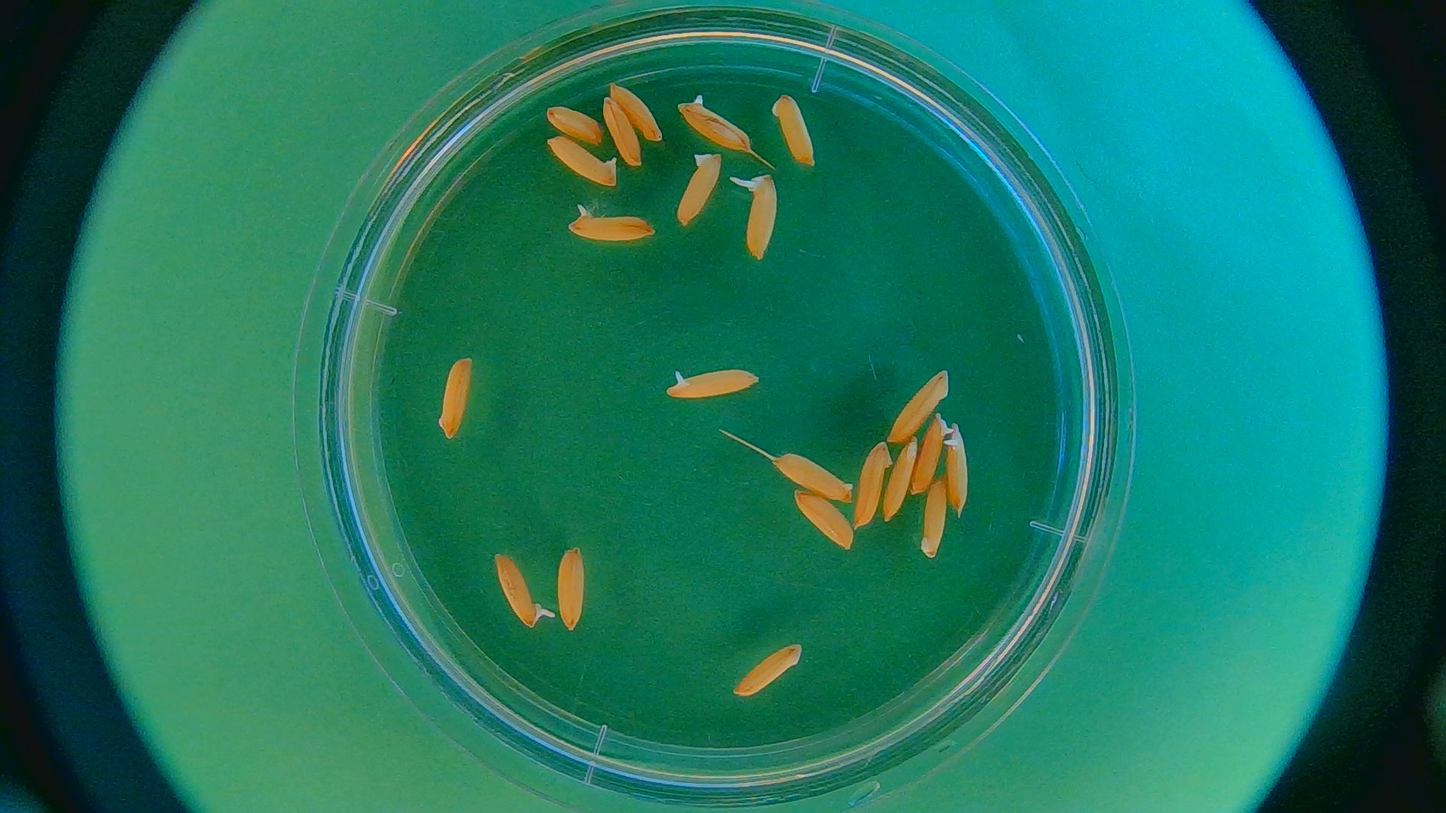no: (676, 90, 758, 159), (880, 367, 950, 444), (541, 132, 621, 187), (769, 449, 853, 501), (728, 640, 804, 696), (672, 151, 723, 230), (790, 489, 855, 550), (913, 407, 953, 500), (433, 354, 477, 438), (607, 81, 665, 142), (596, 96, 645, 167), (853, 443, 892, 532), (770, 93, 816, 168), (554, 548, 590, 632), (660, 368, 760, 398), (883, 437, 917, 525), (916, 475, 948, 559), (544, 102, 602, 143)
yes: (489, 550, 553, 631), (727, 171, 776, 261), (560, 201, 656, 241), (945, 425, 972, 520)
